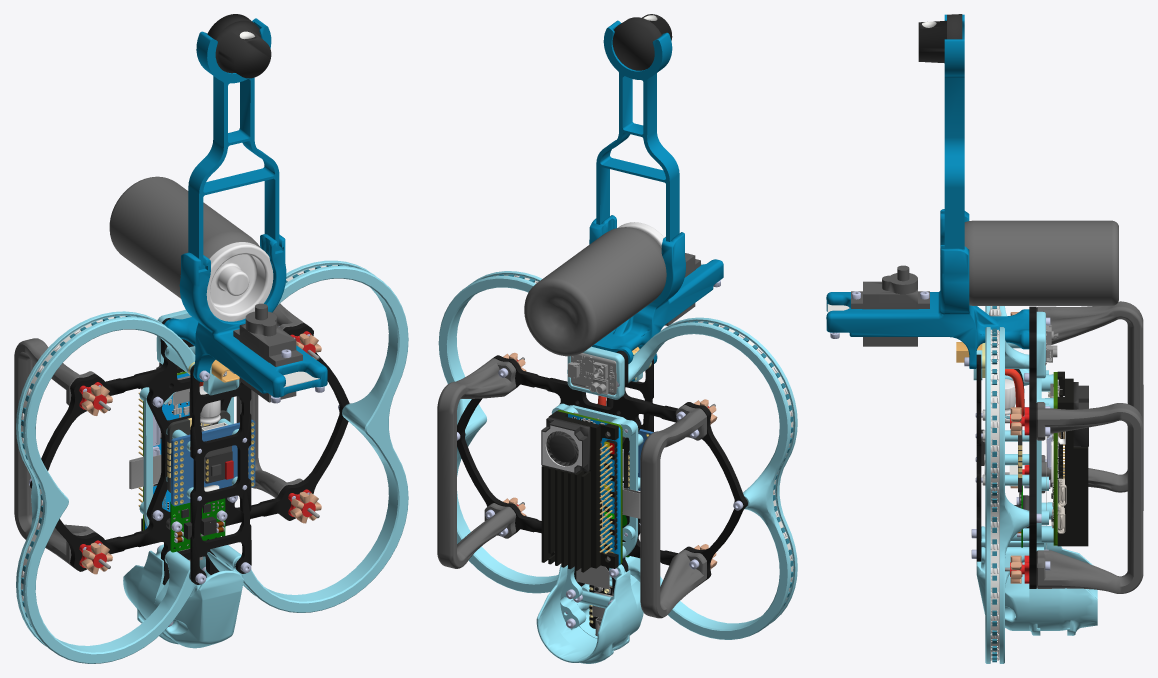
File: graffiti_base.obj
The picture shows the model from 3 angles, left to right: view 1: azimuth 30°, elevation 25°; view 2: azimuth 150°, elevation 25°; view 3: azimuth 270°, elevation 25°; orthographic projection. The views are drawn at different scales.
Parts seen in each view (by area): view 1: Обрик_О1.2.1_c_Граффити_модулем; view 2: Обрик_О1.2.1_c_Граффити_модулем; view 3: Обрик_О1.2.1_c_Граффити_модулем.
Boxes of the visible parts, bbox=[...] form: Обрик_О1.2.1_c_Граффити_модулем: bbox=[14, 14, 408, 663]; Обрик_О1.2.1_c_Граффити_модулем: bbox=[437, 14, 797, 663]; Обрик_О1.2.1_c_Граффити_модулем: bbox=[826, 14, 1143, 663].
Bounding box in the file's own units: 0.1699 × 0.2779 × 0.1299.
